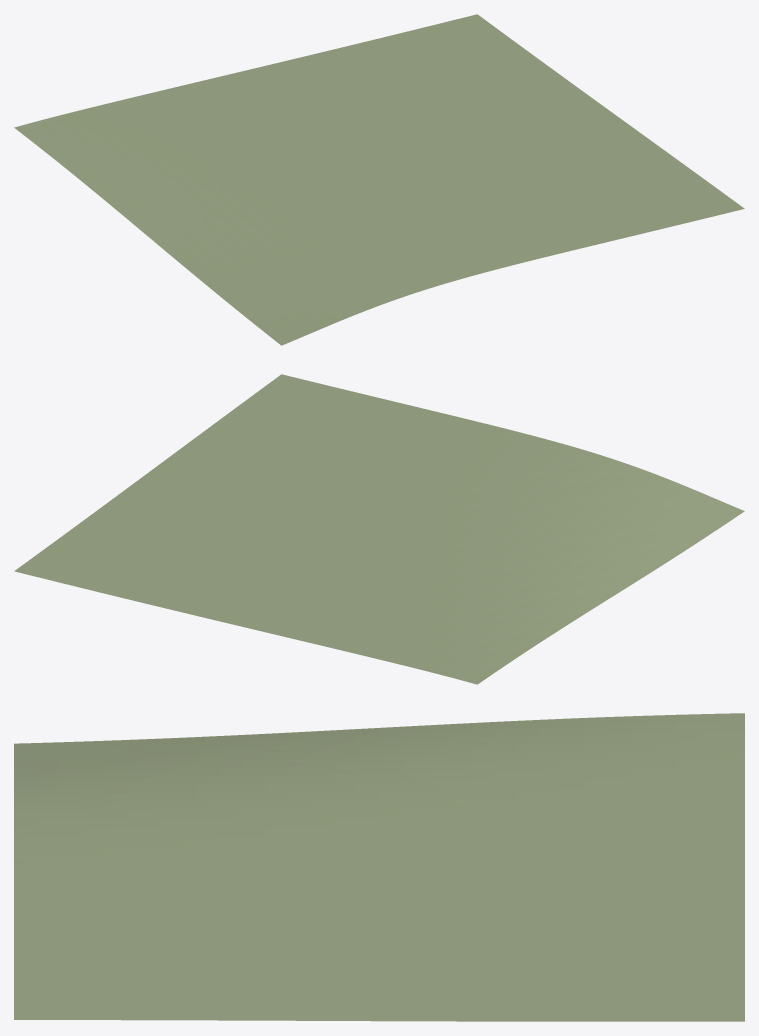
The model's file is desert-14-1.glb.
3 views of the same model, one above another, from view 1: azimuth 30°, elevation 25°; view 2: azimuth 150°, elevation 25°; view 3: azimuth 270°, elevation 25° (orthographic). The views are drawn at different scales.
Visible parts, largest first — view 1: desert-14-1; view 2: desert-14-1; view 3: desert-14-1.
Boxes of the visible parts, <box> form: desert-14-1: <box>14,14,744,345</box>; desert-14-1: <box>14,374,744,684</box>; desert-14-1: <box>14,713,744,1021</box>.
Bounding box in the file's own units: 512 × 25.58 × 512.
